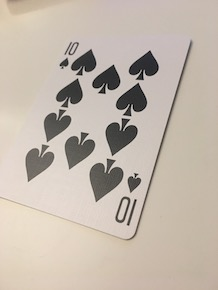TenOfSpades: (1, 31, 194, 242)
